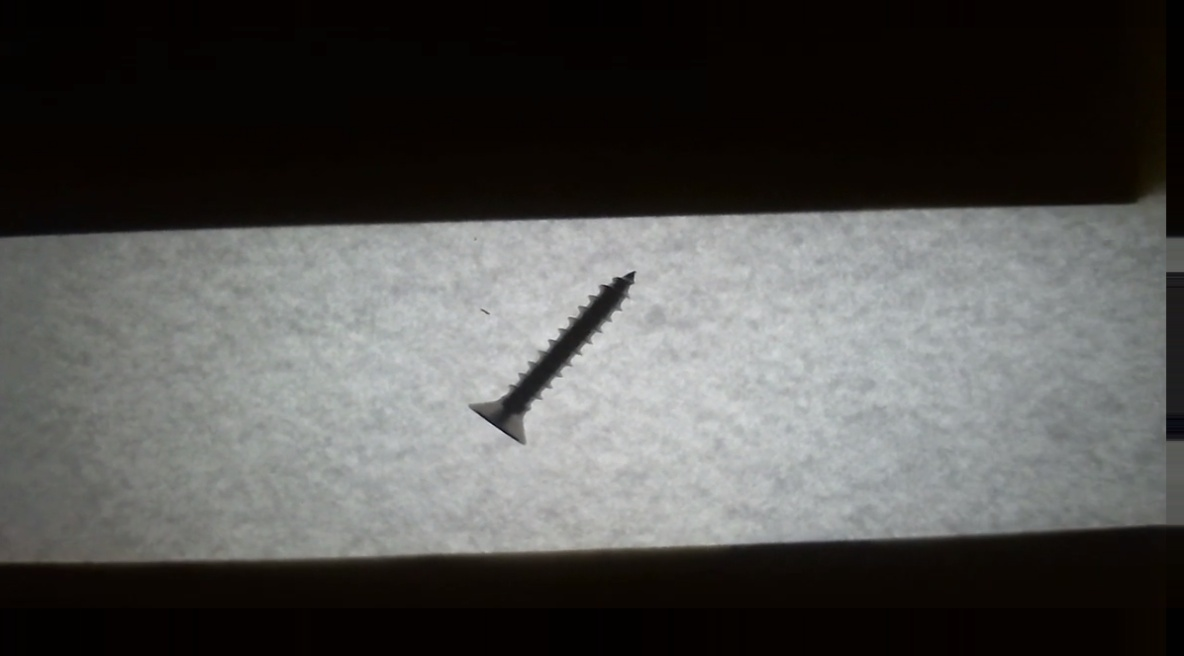S001: (453, 262, 667, 456)
